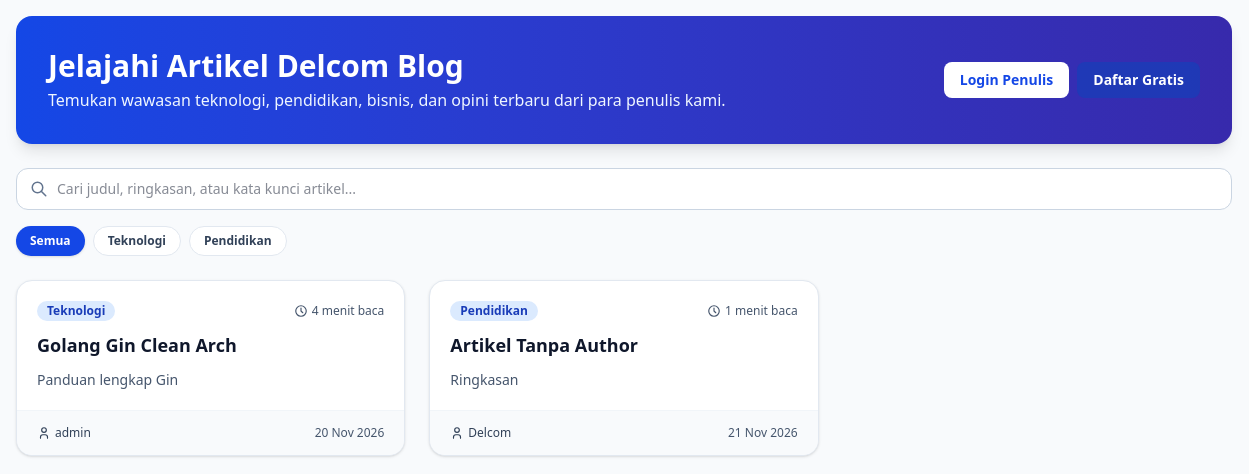
Test: PublicArticleList › renders articles, filters by search & pill category, and handles CTA buttons
Later steps or results of the test are not shown.
Expected: the button "Golang Gin Clean Arch" is shown, [37,333,237,358]
Click the button "Login Penulis" at (1007, 80), box [944,62,1069,98]
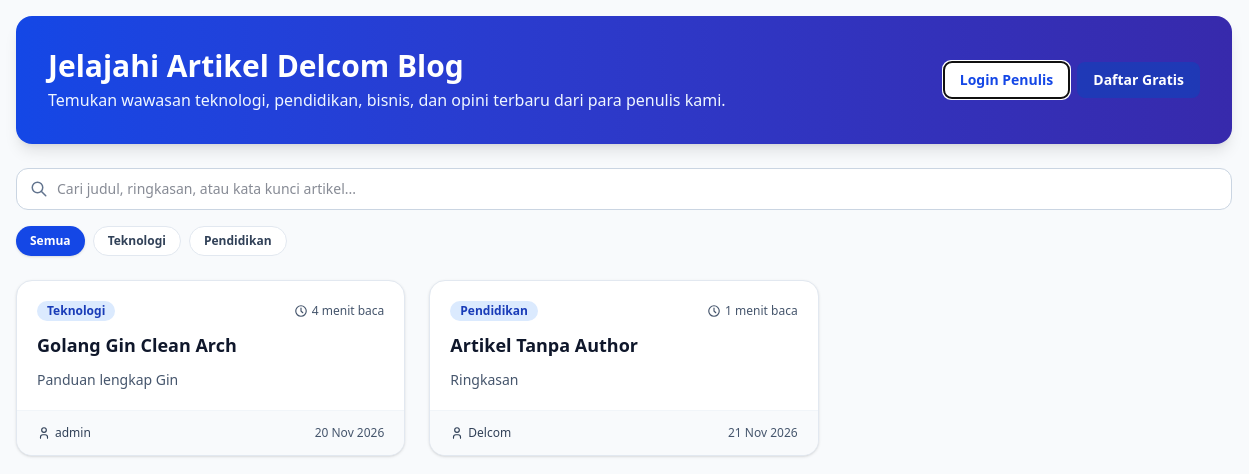
Click the button "Daftar Gratis" at (1139, 80), box [1077,62,1200,98]
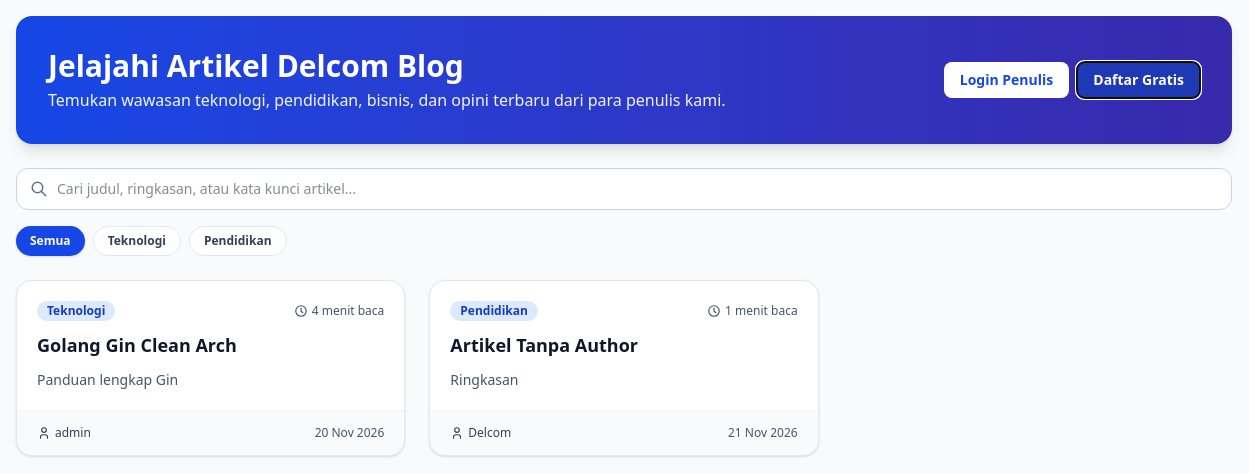
Click the button "Golang Gin Clean Arch" at (137, 345), box [37,333,237,358]
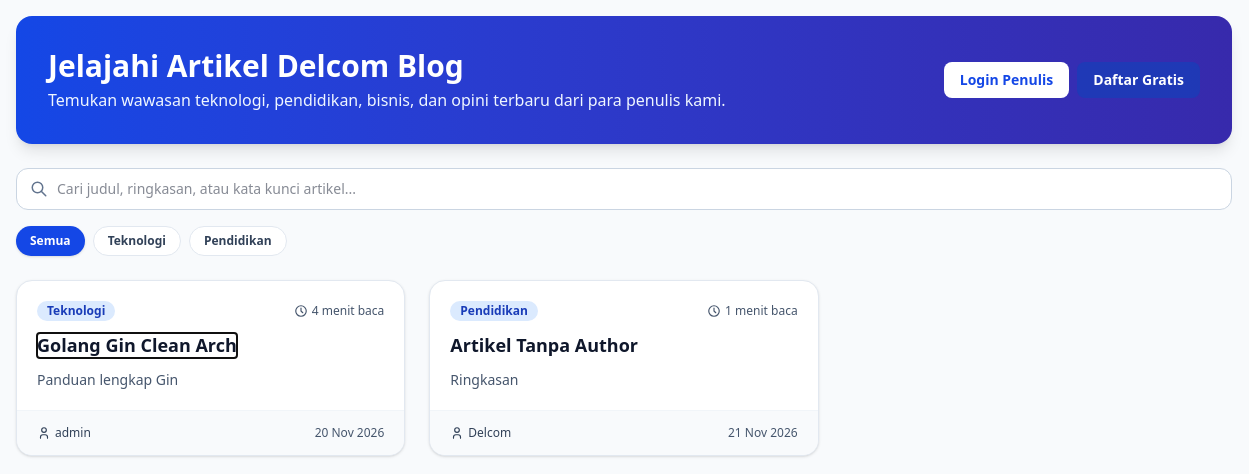
Type "Gin" into the field named "Cari artikel publik" at (624, 189), box [16,168,1232,210]
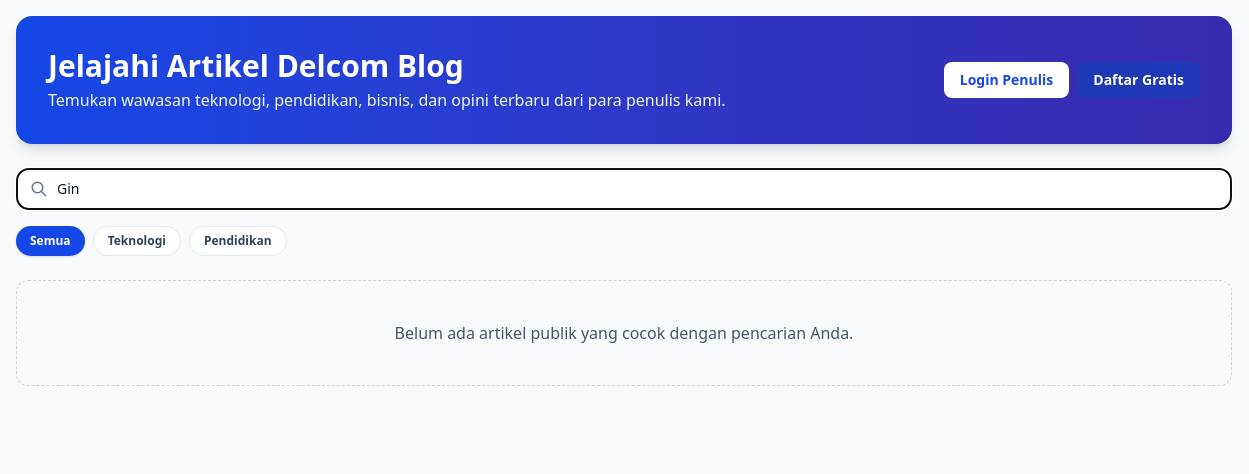
Click the button "Teknologi" at (137, 241), box [93,226,181,256]
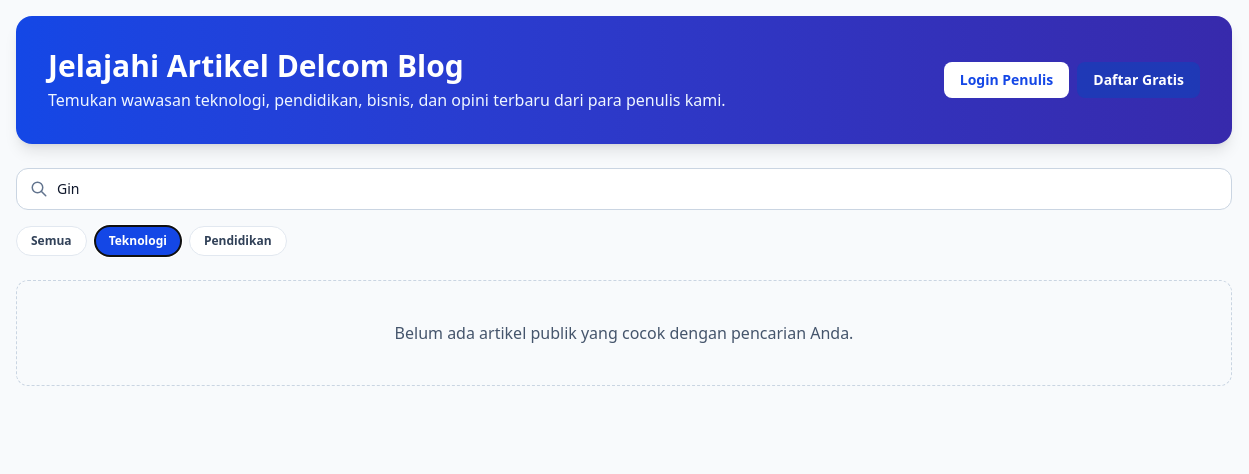
Result: the text "Belum ada artikel publik yang cocok dengan pencarian Anda." is shown at [16,280,1232,386]
